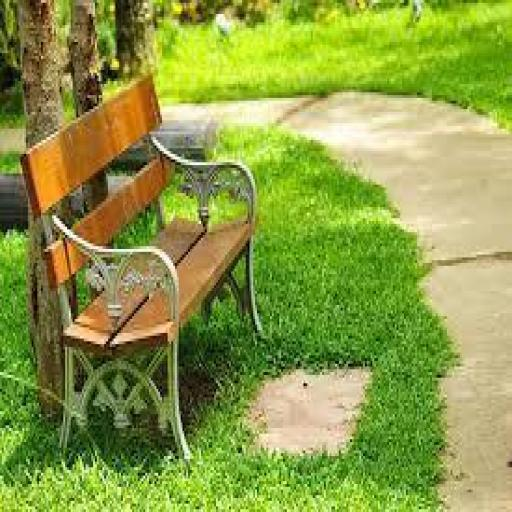chair: (16, 73, 273, 464)
